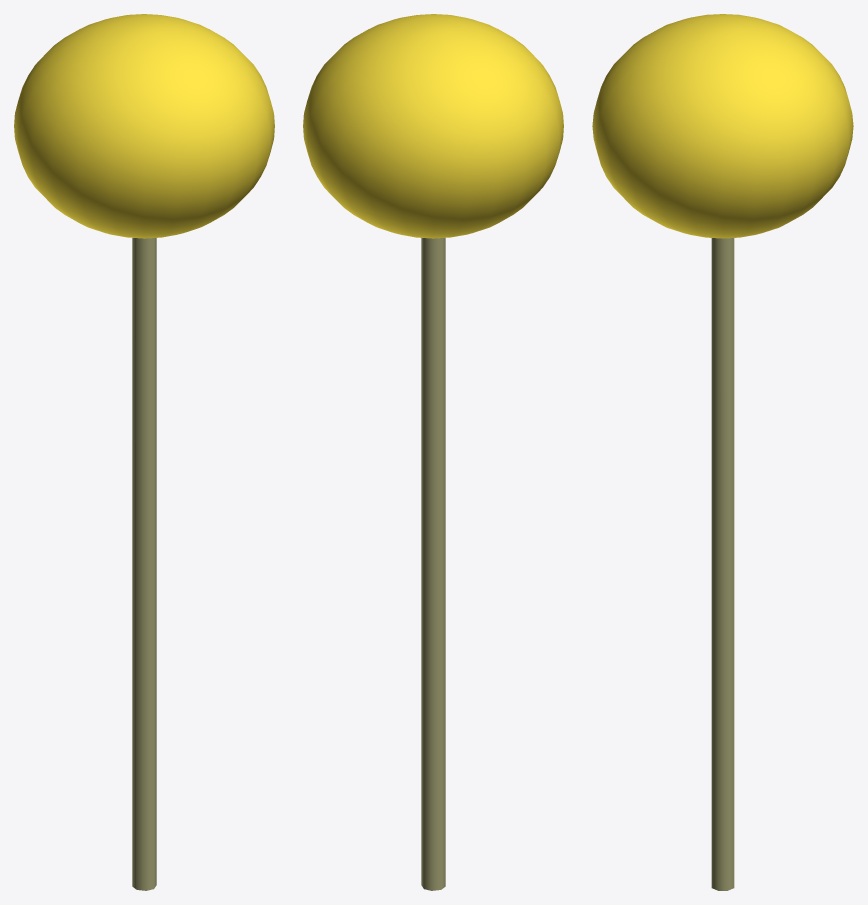
Rendered from HelianthusAnnuus.glb.
3 views of the same model, side by side, from view 1: azimuth 30°, elevation 25°; view 2: azimuth 150°, elevation 25°; view 3: azimuth 270°, elevation 25° (orthographic).
Visible parts, largest first — view 1: Sunflower__Schematic_LOD3; view 2: Sunflower__Schematic_LOD3; view 3: Sunflower__Schematic_LOD3.
Boxes of the visible parts, x1,y1,x2,y2 form: Sunflower__Schematic_LOD3: [14, 14, 274, 890]; Sunflower__Schematic_LOD3: [303, 14, 563, 890]; Sunflower__Schematic_LOD3: [592, 14, 853, 890].
Bounding box in the file's own units: 0.64 × 2.32 × 0.64.
